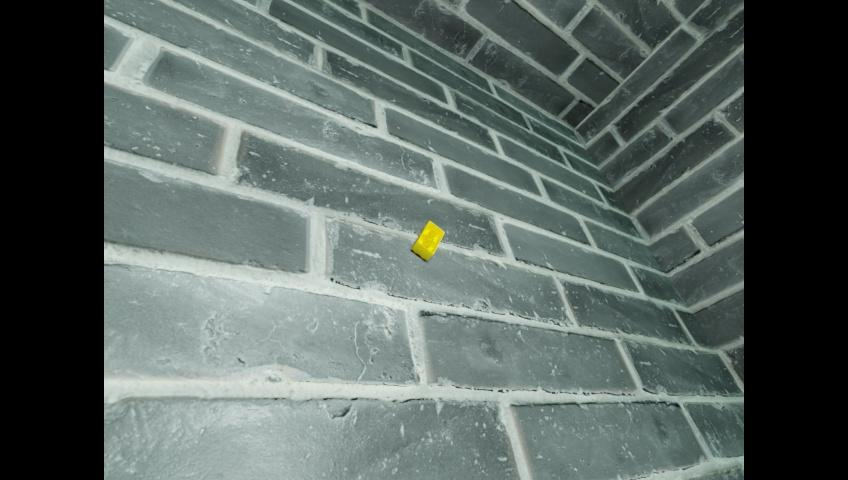4x2_yellow: (413, 221, 445, 261)
